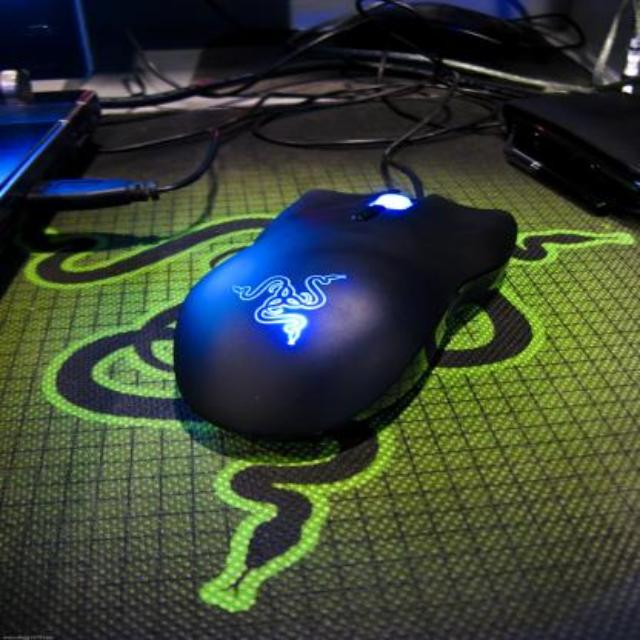Computer-Mouse: (159, 128, 531, 488)
